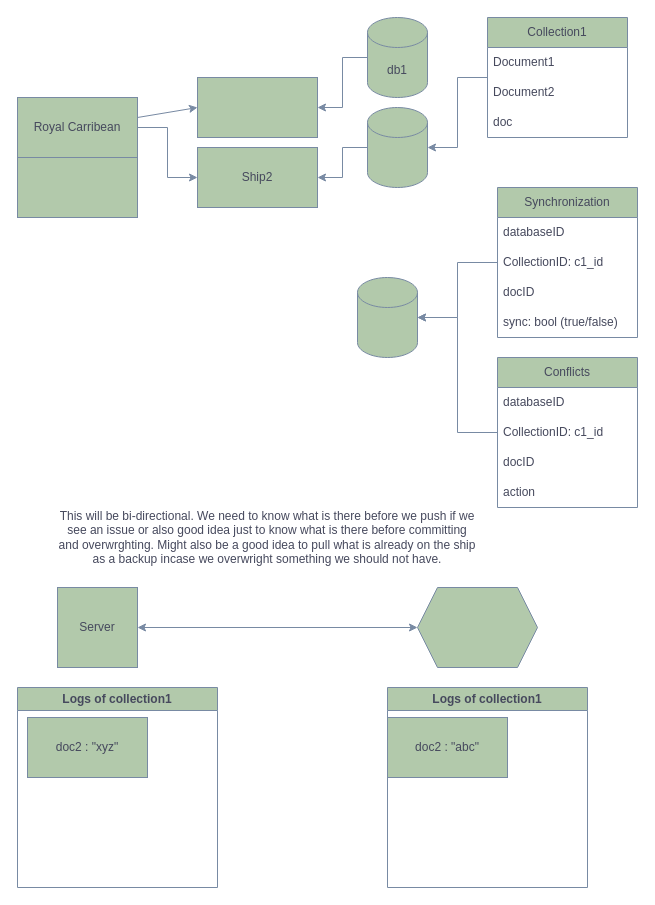
Image size: 655x905. Some labels were removed from this diagram. Here are the shapes that lost their labels. From the top down, the box of each, then its label:
(196, 76, 318, 138): Ship1
(366, 106, 428, 188): db2
(16, 156, 138, 218): CEL
(356, 276, 418, 358): Settings
(416, 586, 538, 668): Ship
